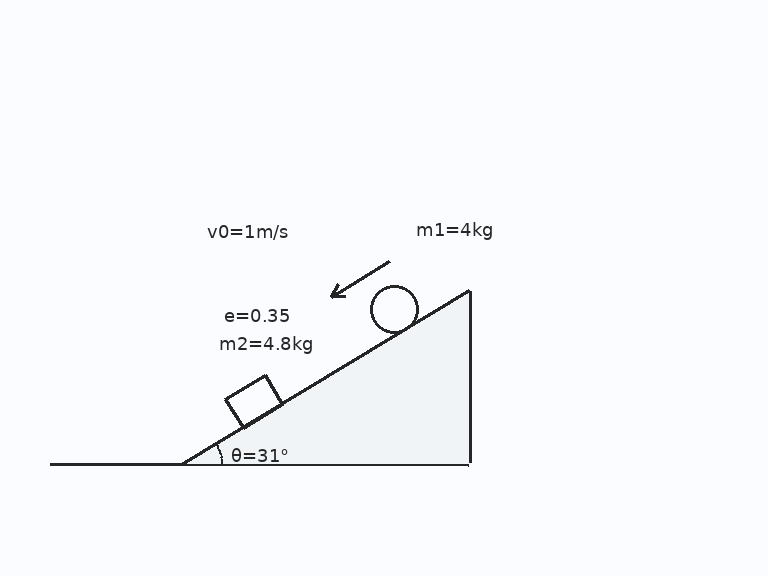ball: (368, 283, 420, 335)
block: (223, 373, 284, 430)
ramp: (180, 289, 472, 466)
